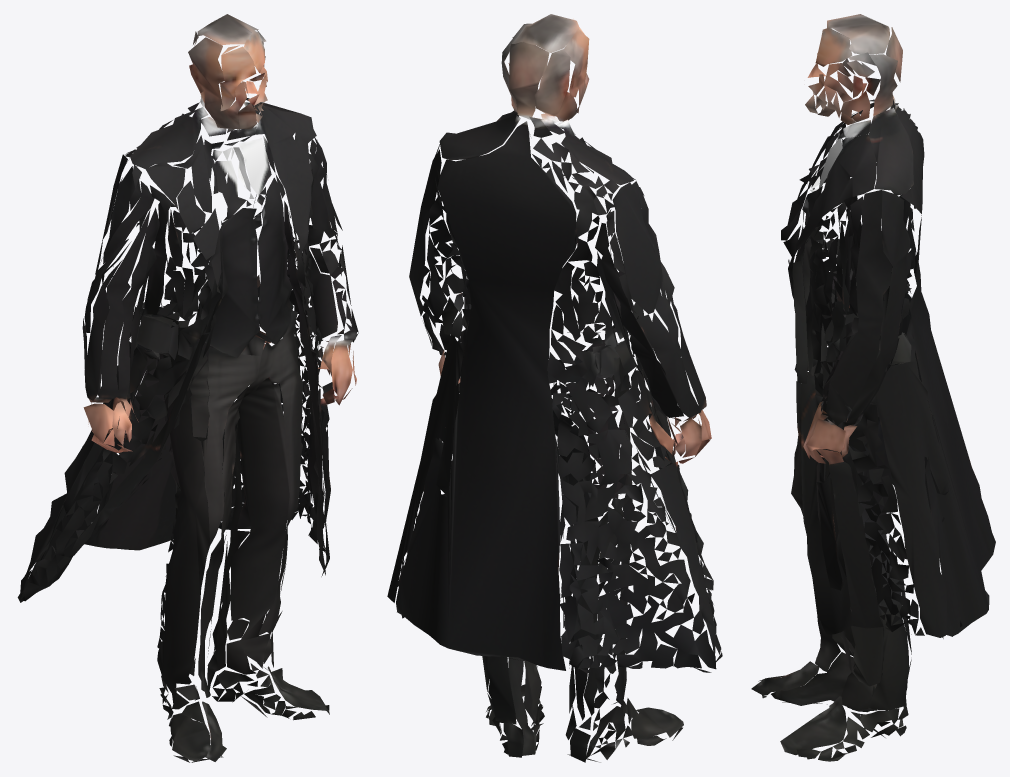
File: char_old_m_top.glb
The picture shows the model from 3 angles, left to right: view 1: azimuth 30°, elevation 25°; view 2: azimuth 150°, elevation 25°; view 3: azimuth 270°, elevation 25°; orthographic projection. The views are drawn at different scales.
Parts seen in each view (by area): view 1: geometry_0; view 2: geometry_0; view 3: geometry_0.
Part boxes in pixels (x1,y1,x2,y2): geometry_0: (17,14,358,762); geometry_0: (387,14,722,762); geometry_0: (751,14,995,761).
Size of the model in its own units: 0.8747 by 1.85 by 0.5808.
1 material, 1 textured.
